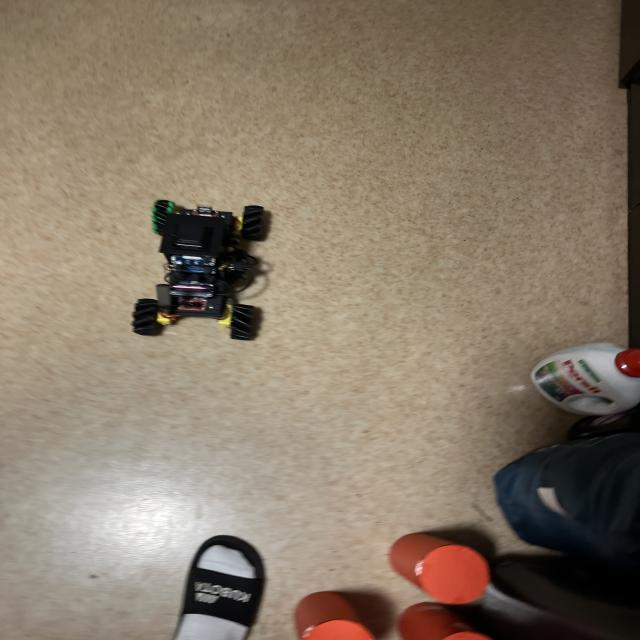robot: (132, 200, 265, 340)
